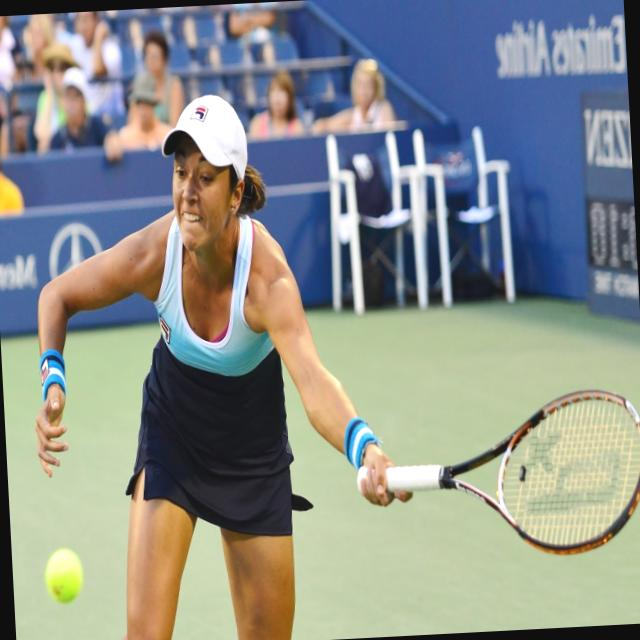Tennis Ball: (44, 544, 86, 604)
